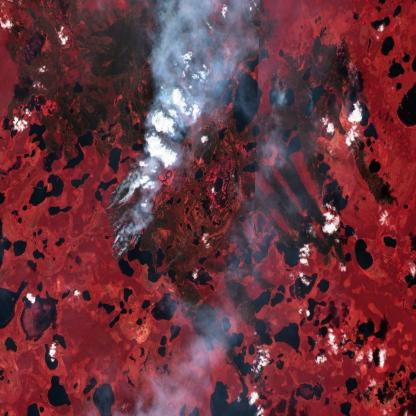fire: (100, 166, 150, 262), (263, 61, 296, 108)
